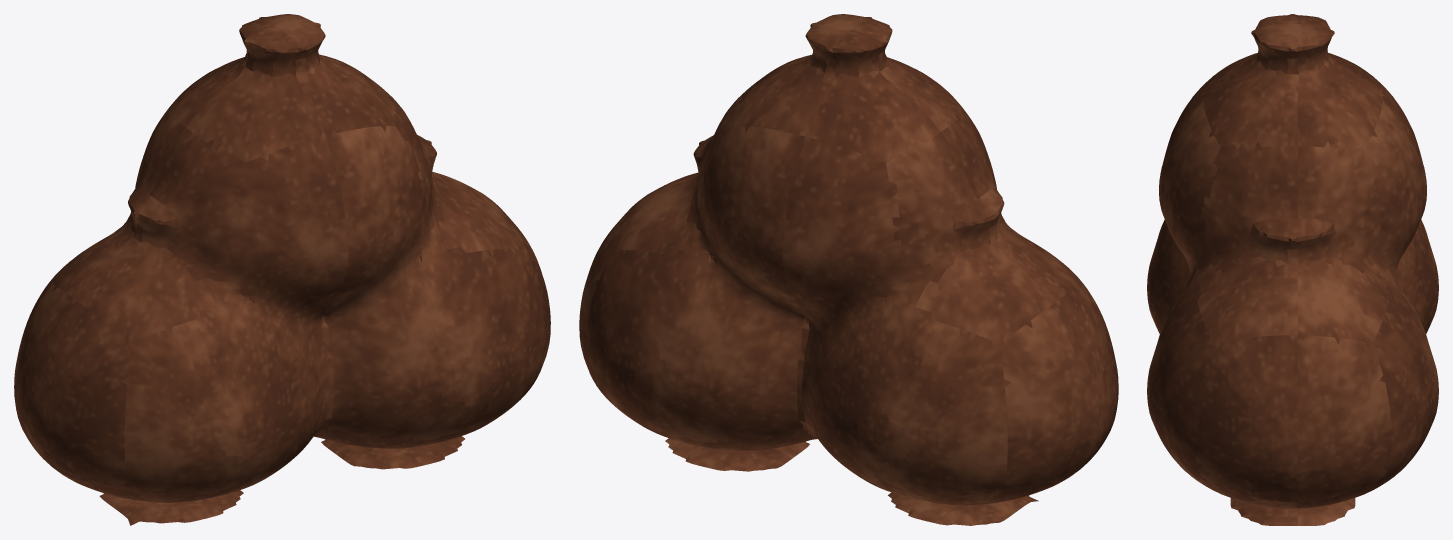
The model's file is prop_sacks_stack.glb.
3 renders of one model, left to right at view 1: azimuth 30°, elevation 25°; view 2: azimuth 150°, elevation 25°; view 3: azimuth 270°, elevation 25°, orthographic. The views are drawn at different scales.
Visible parts, largest first — view 1: town_prop_sacks_stack; view 2: town_prop_sacks_stack; view 3: town_prop_sacks_stack.
Part boxes in pixels (x1,y1,x2,y2): town_prop_sacks_stack: [14, 14, 550, 525]; town_prop_sacks_stack: [579, 14, 1118, 525]; town_prop_sacks_stack: [1147, 14, 1438, 525].
Bounding box in the file's own units: 0.6823 × 0.5744 × 0.358.
Materials: 1 (1 with a texture image).
